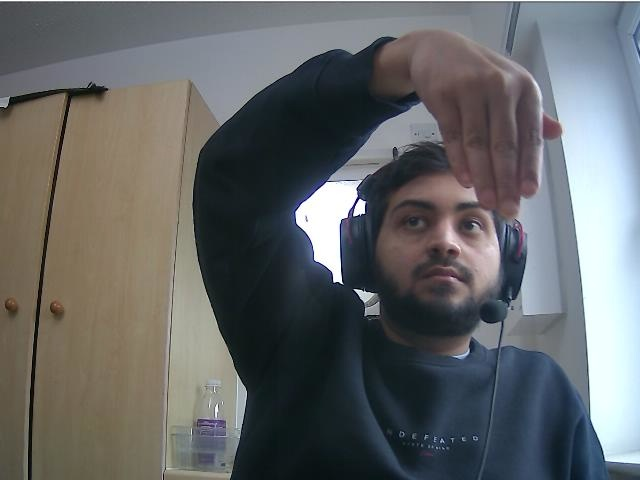down: (442, 47, 564, 216)
